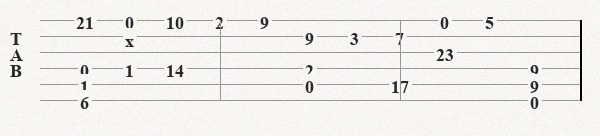0: (80, 60, 93, 76), (125, 12, 138, 28), (305, 76, 318, 92), (440, 12, 453, 28), (530, 92, 543, 108)
1: (80, 76, 93, 92), (125, 60, 138, 76)
10: (166, 12, 188, 28)
14: (166, 60, 188, 76)
17: (391, 76, 413, 92)
2: (215, 12, 228, 28), (305, 60, 318, 76)
21: (76, 12, 98, 28)
23: (436, 44, 458, 60)
3: (350, 28, 363, 44)
5: (485, 12, 498, 28)
6: (80, 92, 93, 108)
7: (395, 28, 408, 44)
9: (260, 12, 273, 28), (305, 28, 318, 44), (530, 60, 543, 76), (530, 76, 543, 92)
x: (125, 30, 138, 42)
